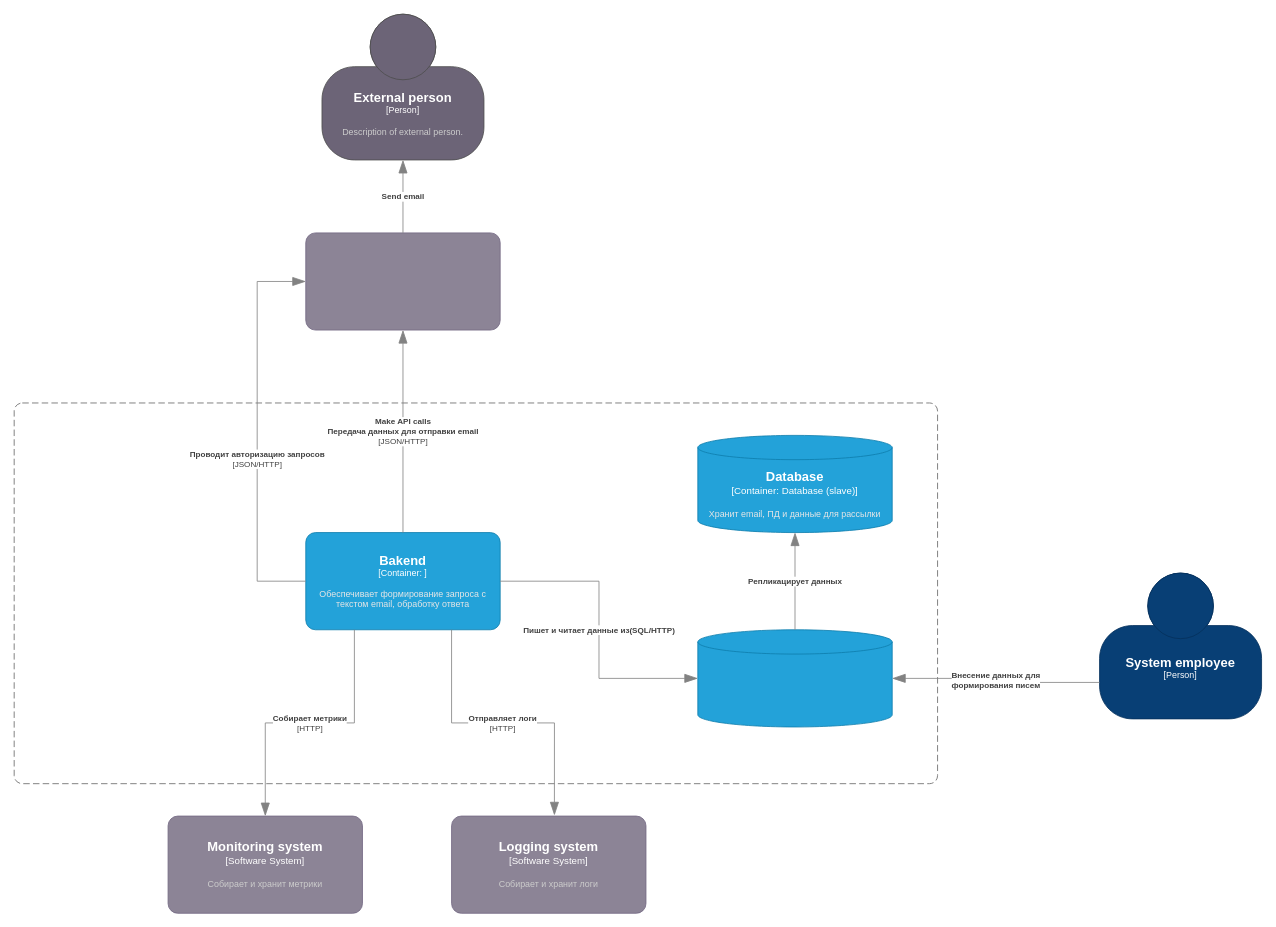
Some shapes in this 1276 by 927 pixel diagram are drawn without their labels. Here are the shapes that lost their labels. From the top down, the box of each, then its label:
(305, 232, 500, 330): Email System [Software System] Система для рассылки электронных писем
(13, 402, 938, 784): System for create email [Software System]
(697, 629, 892, 727): Database [Container: Database (master)] Хранит email, ПД и данные для рассылки
